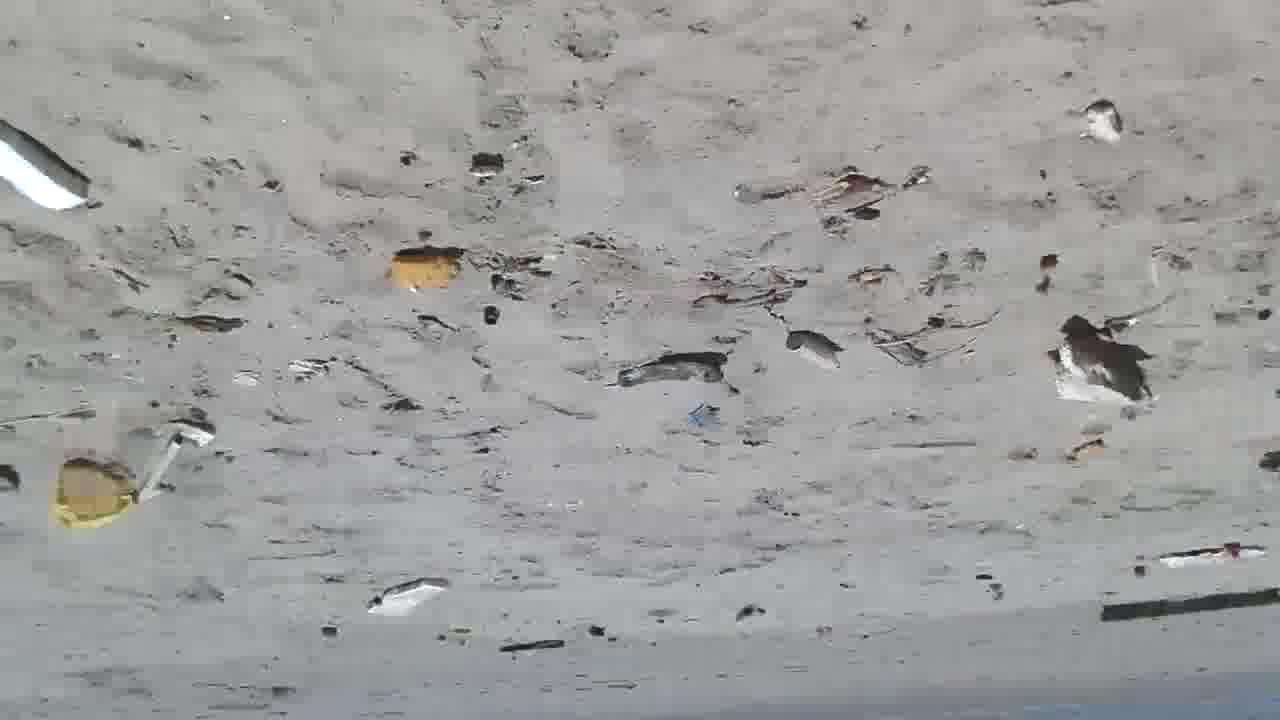large collection of objects: (1051, 314, 1157, 415), (1086, 102, 1126, 148)
obj: (1088, 578, 1279, 637), (791, 163, 939, 234), (4, 122, 98, 214), (875, 309, 997, 368), (51, 447, 131, 530), (608, 351, 741, 392), (108, 308, 256, 340), (378, 244, 466, 295), (370, 574, 450, 626), (139, 432, 185, 509), (1153, 541, 1274, 570), (782, 322, 846, 374), (168, 409, 219, 449), (488, 637, 568, 656)
sand/background: (524, 633, 1279, 719)
